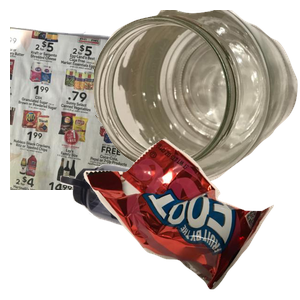glass: (94, 10, 300, 184)
paper: (10, 22, 225, 202)
plastic: (58, 162, 261, 300)
trash: (81, 136, 300, 300)
